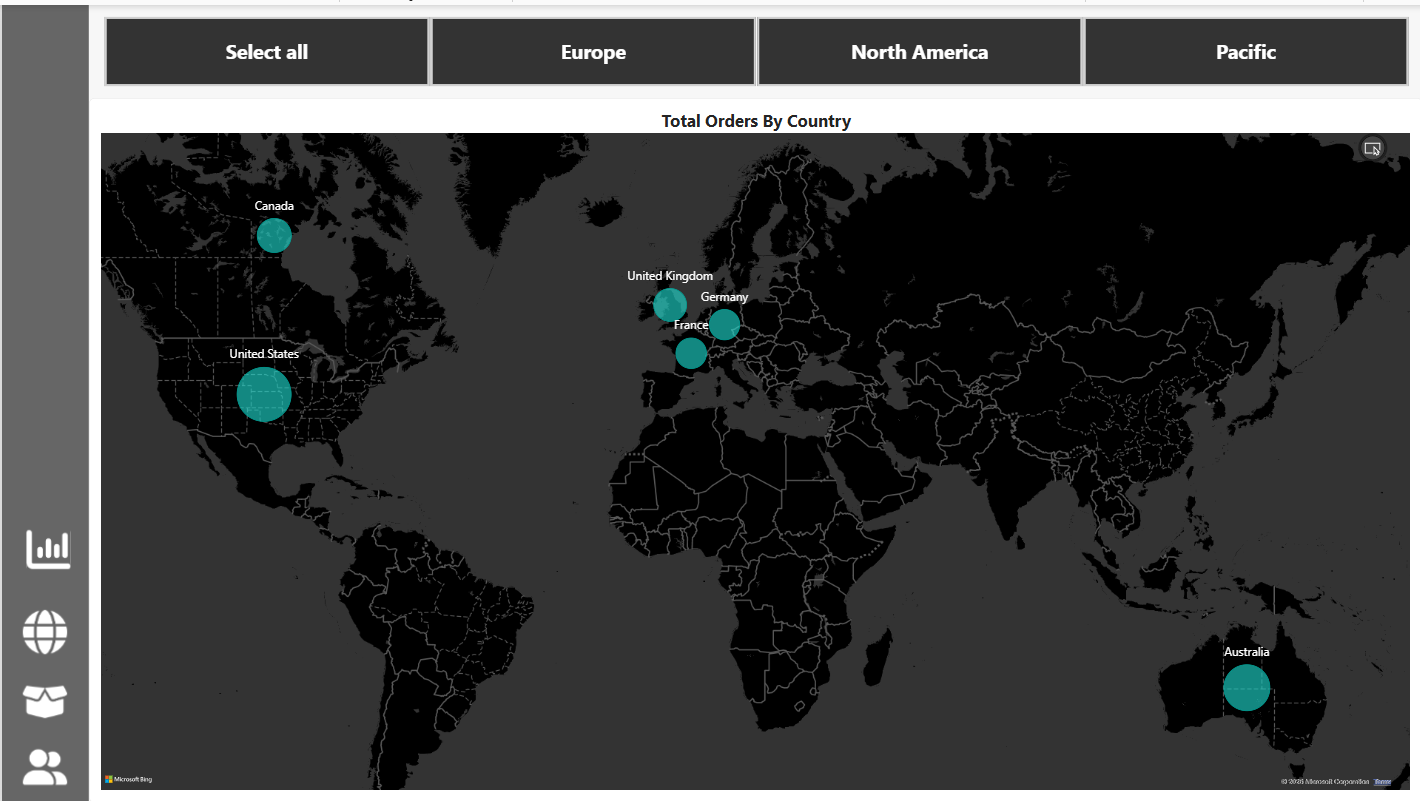

Layout of this report page (visuals, bound fields, positions):
{"tool":"powerbi","page":{"name":"Map","canvas":[1920,1080],"ordinal":1},"visuals":[{"type":"shape","box":[0,0,117.6,1080.7],"z":0},{"type":"actionButton","box":[8.2,693.4,109.5,85.2],"z":0,"group":"g1"},{"type":"map","title":"Total Orders By Country","fields":{"Category":["AdventureWorks Territory Lookup.Country"],"Size":["Sales Data (Fact).Total Orders"]},"box":[117.6,125.7,1802.5,953],"z":1000},{"type":"actionButton","box":[8,986.5,99.4,85.2],"z":1000,"group":"g1"},{"type":"slicer","fields":{"Values":["AdventureWorks Territory Lookup.Continent"]},"box":[117.6,14.2,1802.5,97.3],"z":2000},{"type":"actionButton","box":[8,804,99.4,85.2],"z":2000,"group":"g1"},{"type":"group","id":"g1","title":"Navigation buttons","box":[4.1,693.4,113.5,378.3],"z":2001},{"type":"actionButton","box":[4.1,885.9,107.5,111.5],"z":3000,"group":"g1"}]}

Visuals, with their boxes in screenshot pixels (x1, y1, x2, y2):
shape: x1=7 y1=0 x2=93 y2=788
actionButton: x1=13 y1=506 x2=93 y2=568
"Total Orders By Country" map: x1=93 y1=92 x2=1408 y2=787
actionButton: x1=13 y1=720 x2=86 y2=782
slicer - AdventureWorks Territory Lookup.Continent: x1=93 y1=10 x2=1408 y2=81
actionButton: x1=13 y1=586 x2=86 y2=649
"Navigation buttons" group: x1=10 y1=506 x2=93 y2=782
actionButton: x1=10 y1=646 x2=89 y2=727
